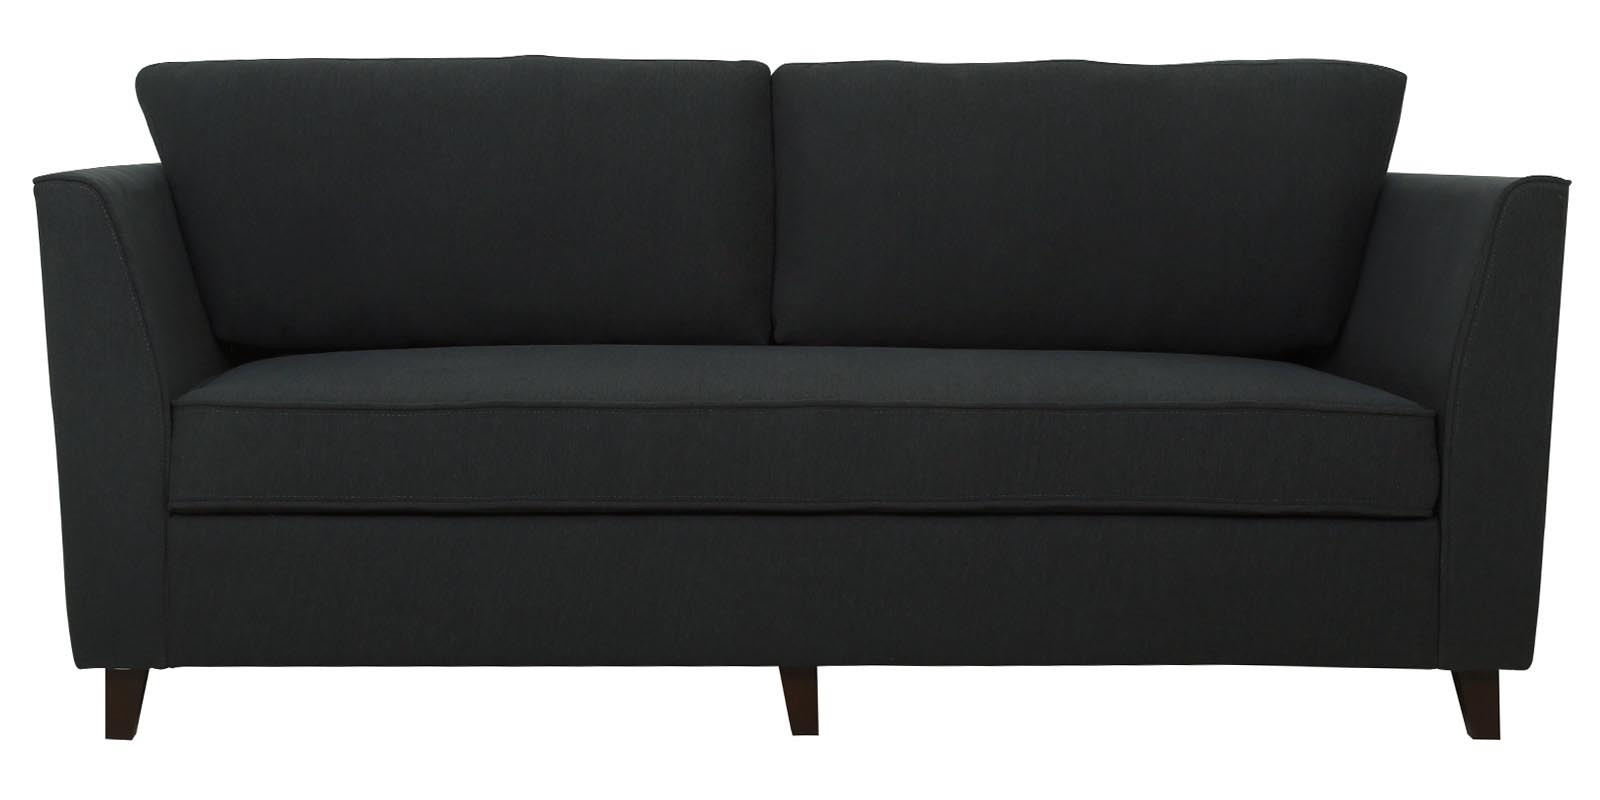Miranda Three Seater Sofa in Charcoal Grey Colour by CasaCraft: (34, 57, 1570, 741)
